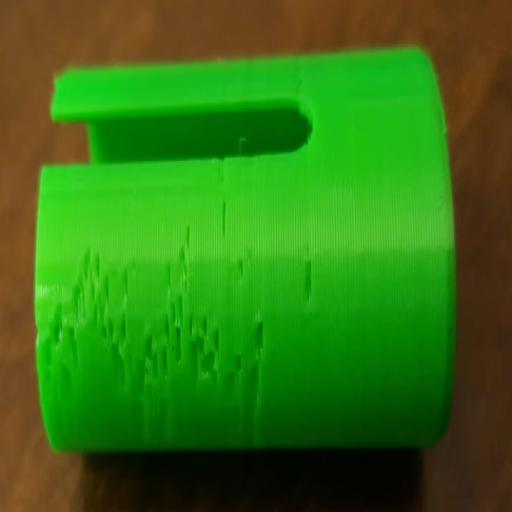cracks: (128, 300, 274, 409), (52, 242, 118, 418), (295, 239, 314, 327)
